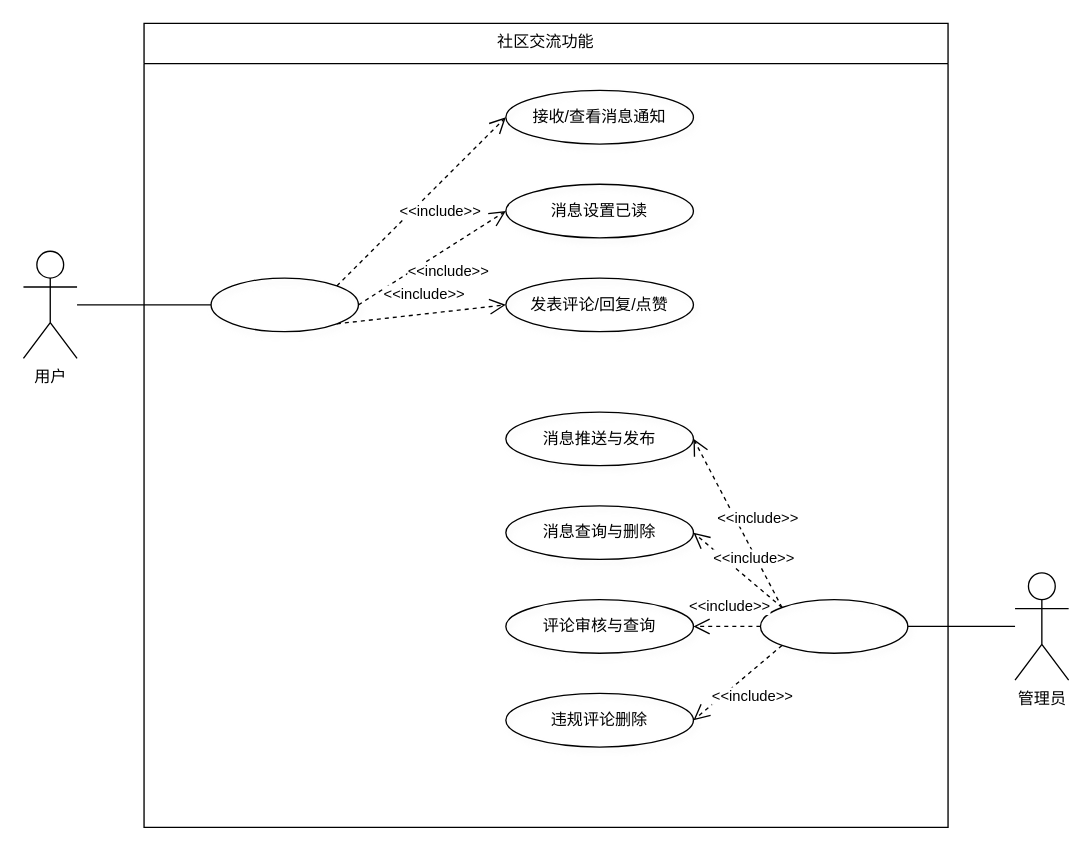
Image size: 1092x851. Some labels were removed from this diagram. The shapes that lost their labels are listed below. From the top down, each one's centre as x and y in pixels, then its label:
the point at 285,306: 用户社区互动
the point at 835,628: 社区互动管理
